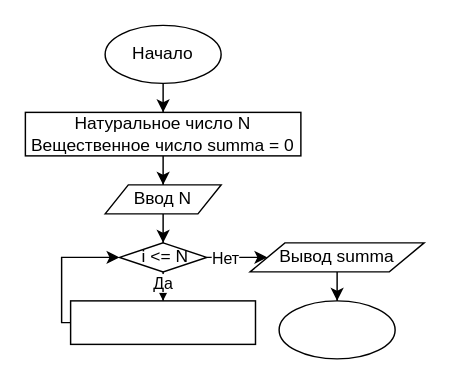
The diagram is 450 pixels wide and 384 high, and some of its shapes have lost their labels. Here are the shapes that lost their labels. From the top down, the box of each, then its label:
(69, 299, 255, 344): summa += (N/i) + i + 1 i++
(278, 299, 395, 359): Конец
